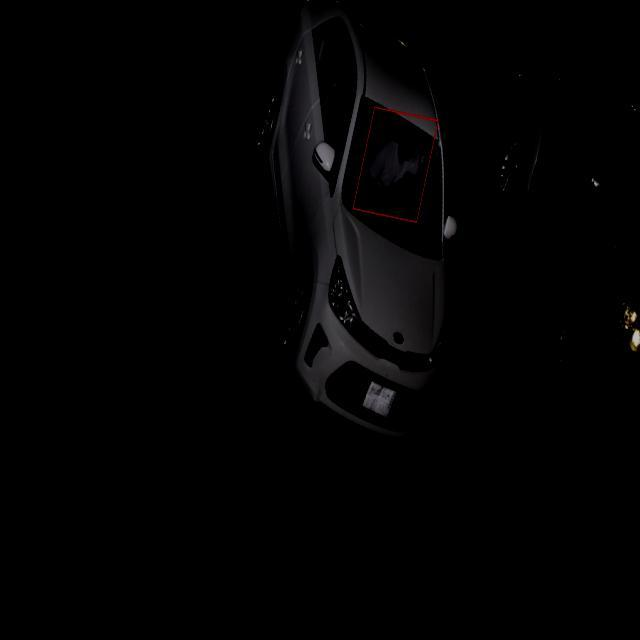windshield: (331, 93, 448, 262)
